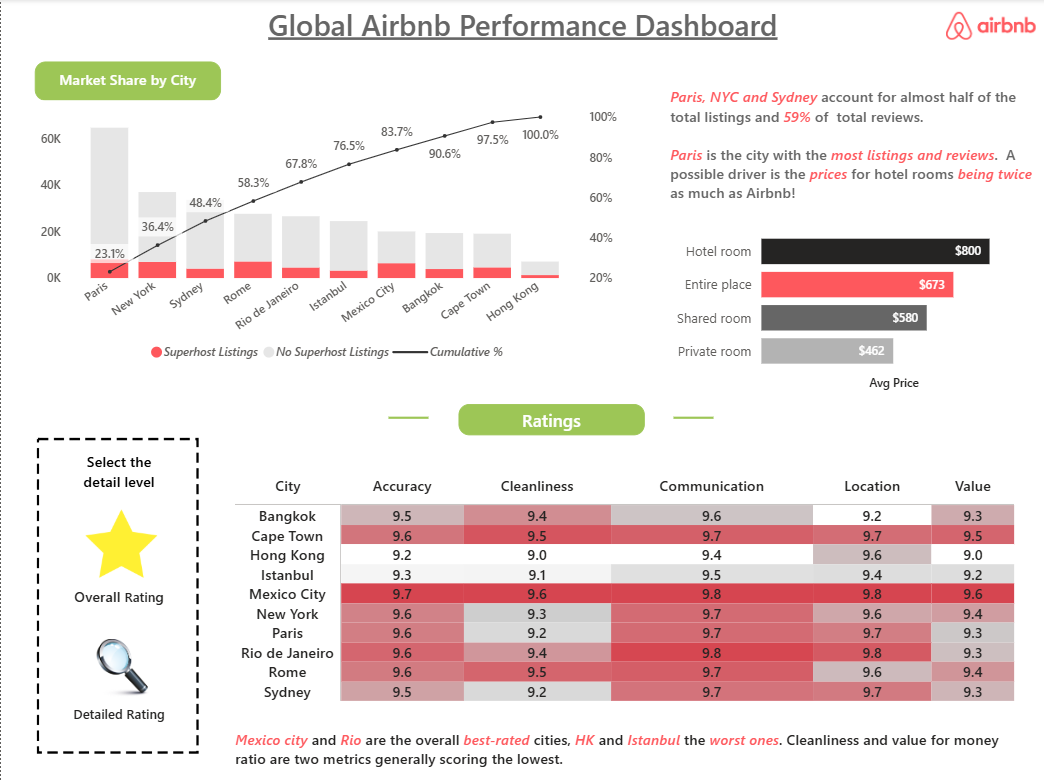

Layout of this report page (visuals, bound fields, positions):
{"tool":"powerbi","page":{"name":"Ratings","canvas":[960,720],"ordinal":1},"visuals":[{"type":"textbox","box":[180.3,0,598.5,57.4],"z":0},{"type":"image","box":[74.7,465.2,72.4,70.1],"z":0,"group":"g1"},{"type":"image","box":[78.1,588.1,65.5,54],"z":0,"group":"g2"},{"type":"image","box":[868.4,4.6,82.7,40.2],"z":1000},{"type":"textbox","box":[58.6,535.3,99.9,27.6],"z":1000,"group":"g1"},{"type":"textbox","box":[52.8,642.1,111.4,27.6],"z":1000,"group":"g2"},{"type":"textbox","box":[31,57.4,171.2,35.6],"z":2000},{"type":"lineStackedColumnComboChart","fields":{"Category":["Listings.city"],"Y":["Listings.Superhost Listings","Listings.No Superhost Listings"],"Y2":["Listings.Cumulative %"]},"box":[31,93,541,249.3],"z":3000},{"type":"barChart","fields":{"Category":["Listings.room_type"],"Y":["Listings.Avg Price"]},"box":[610,195.3,337.7,168.9],"z":4000},{"type":"textbox","box":[610,75.8,350.4,119.5],"z":5000},{"type":"textbox","box":[420.4,372.2,171.2,28.7],"z":6000},{"type":"shape","box":[618,368.7,36.8,32.2],"z":8000},{"type":"image","box":[31,392.9,152.8,311.3],"z":9000},{"type":"textbox","box":[68.9,411.2,79.3,45.9],"z":11000},{"type":"pivotTable","fields":{"Rows":["Listings.city"],"Values":["Listings.Accuracy","Listings.Cleanliness","Listings.Communication","Listings.Location","Listings.Value"]},"box":[210.2,433.1,737.5,233.2],"z":11500},{"type":"group","id":"g1","title":"Group 1","box":[58.6,465.2,99.9,97.6],"z":13000},{"type":"group","id":"g2","title":"Group 2","box":[52.8,588.1,111.4,81.6],"z":14000},{"type":"shape","box":[356.1,368.7,36.8,32.2],"z":14001},{"type":"textbox","box":[210.2,666.2,737.5,49.4],"z":14002}]}

Visuals, with their boxes in screenshot pixels (x1, y1, x2, y2), scaled from the page's 960x720 canvas onto the 1044x780 screenshot:
textbox: locate(196, 0, 847, 62)
image: locate(81, 504, 160, 580)
image: locate(85, 637, 156, 696)
image: locate(944, 5, 1034, 49)
textbox: locate(64, 580, 172, 610)
textbox: locate(57, 696, 179, 726)
textbox: locate(34, 62, 220, 101)
lineStackedColumnComboChart - Listings.city x Listings.Superhost Listings: locate(34, 101, 622, 371)
barChart - Listings.room_type x Listings.Avg Price: locate(663, 212, 1031, 395)
textbox: locate(663, 82, 1043, 212)
textbox: locate(457, 403, 643, 434)
shape: locate(672, 399, 712, 434)
image: locate(34, 426, 200, 763)
textbox: locate(75, 445, 161, 495)
pivotTable - Listings.city x Listings.Accuracy: locate(229, 469, 1031, 722)
"Group 1" group: locate(64, 504, 172, 610)
"Group 2" group: locate(57, 637, 179, 726)
shape: locate(387, 399, 427, 434)
textbox: locate(229, 722, 1031, 775)
